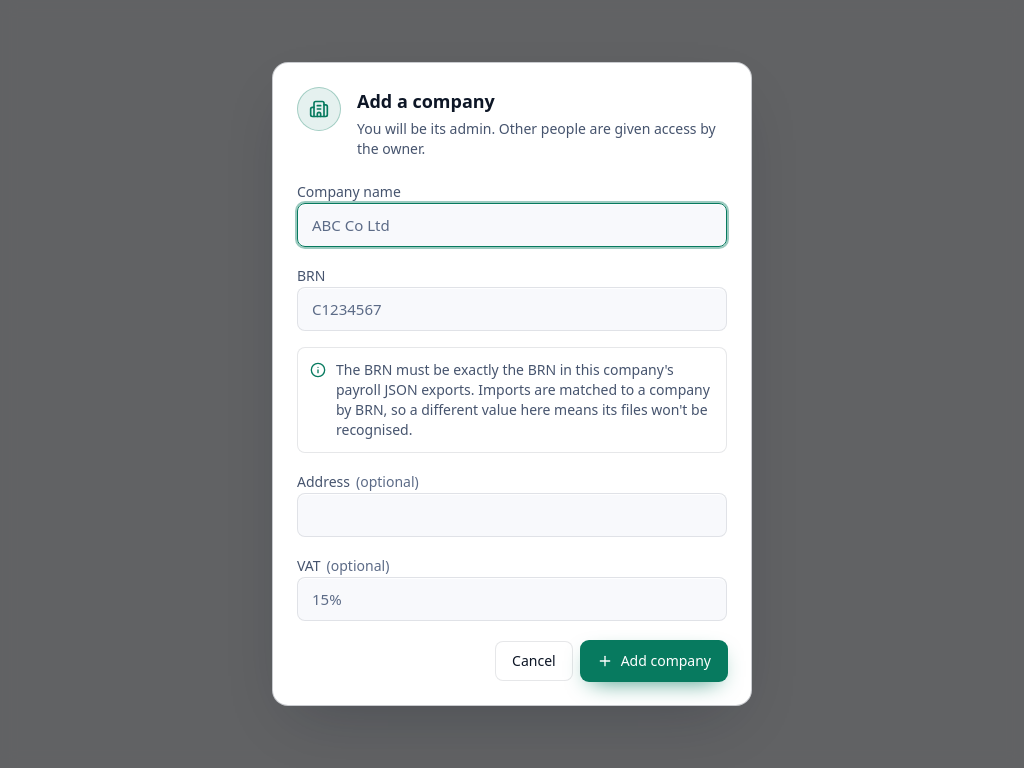
Scenario: <AddCompanyDialog> › explains {"code":"PGRST202","message":"not found"}
The image size is (1024, 768).
Type "New Venture Ltd" into the field labelled "Company name" at (512, 225), box [297,203,727,247]
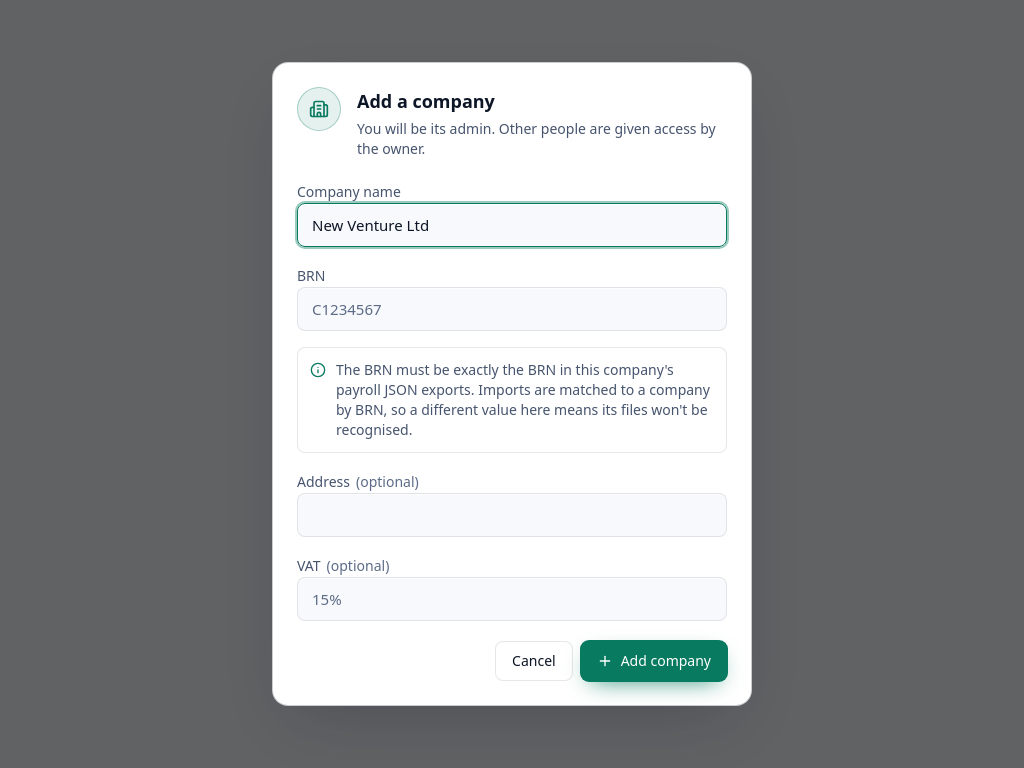
Type "C7654321" into the field labelled "BRN" at (512, 309), box [297,287,727,331]
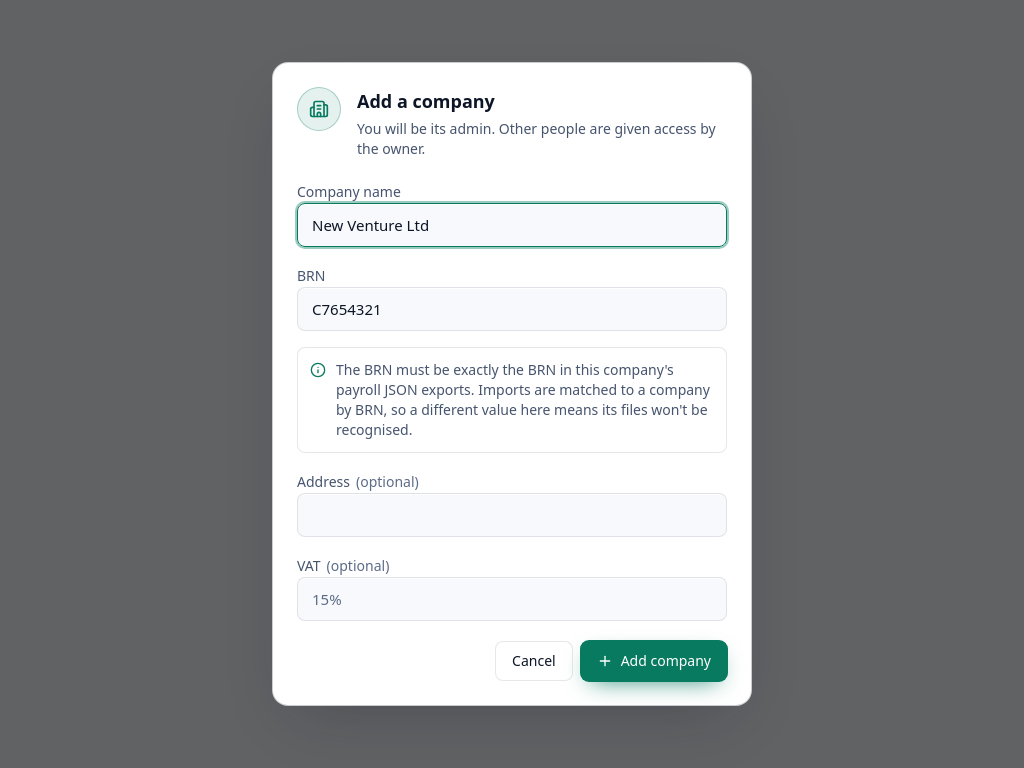
Click the button "Add company" at (654, 661), box [581,641,727,681]
(page scrolled)
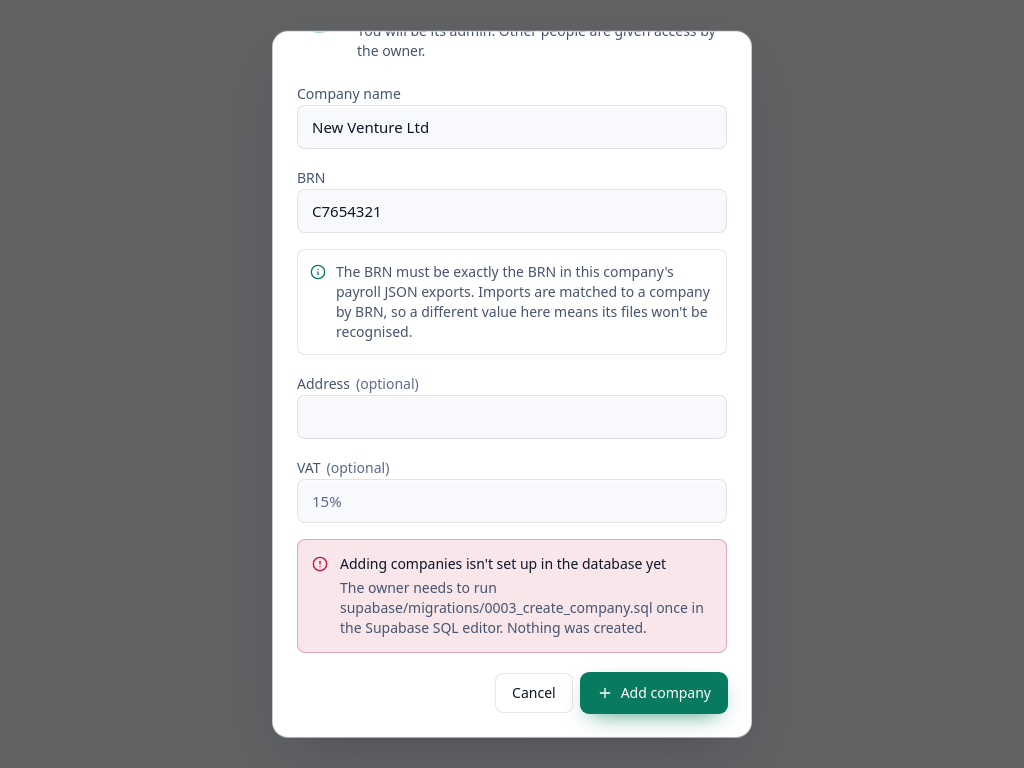
Expected: the dialog is shown, [272,31,752,737]
Expected: the message shows "Adding companies isn't set up in the database yet", [340,554,666,573]
